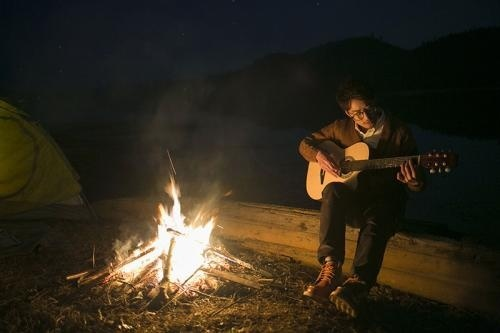fire: (115, 177, 219, 284)
